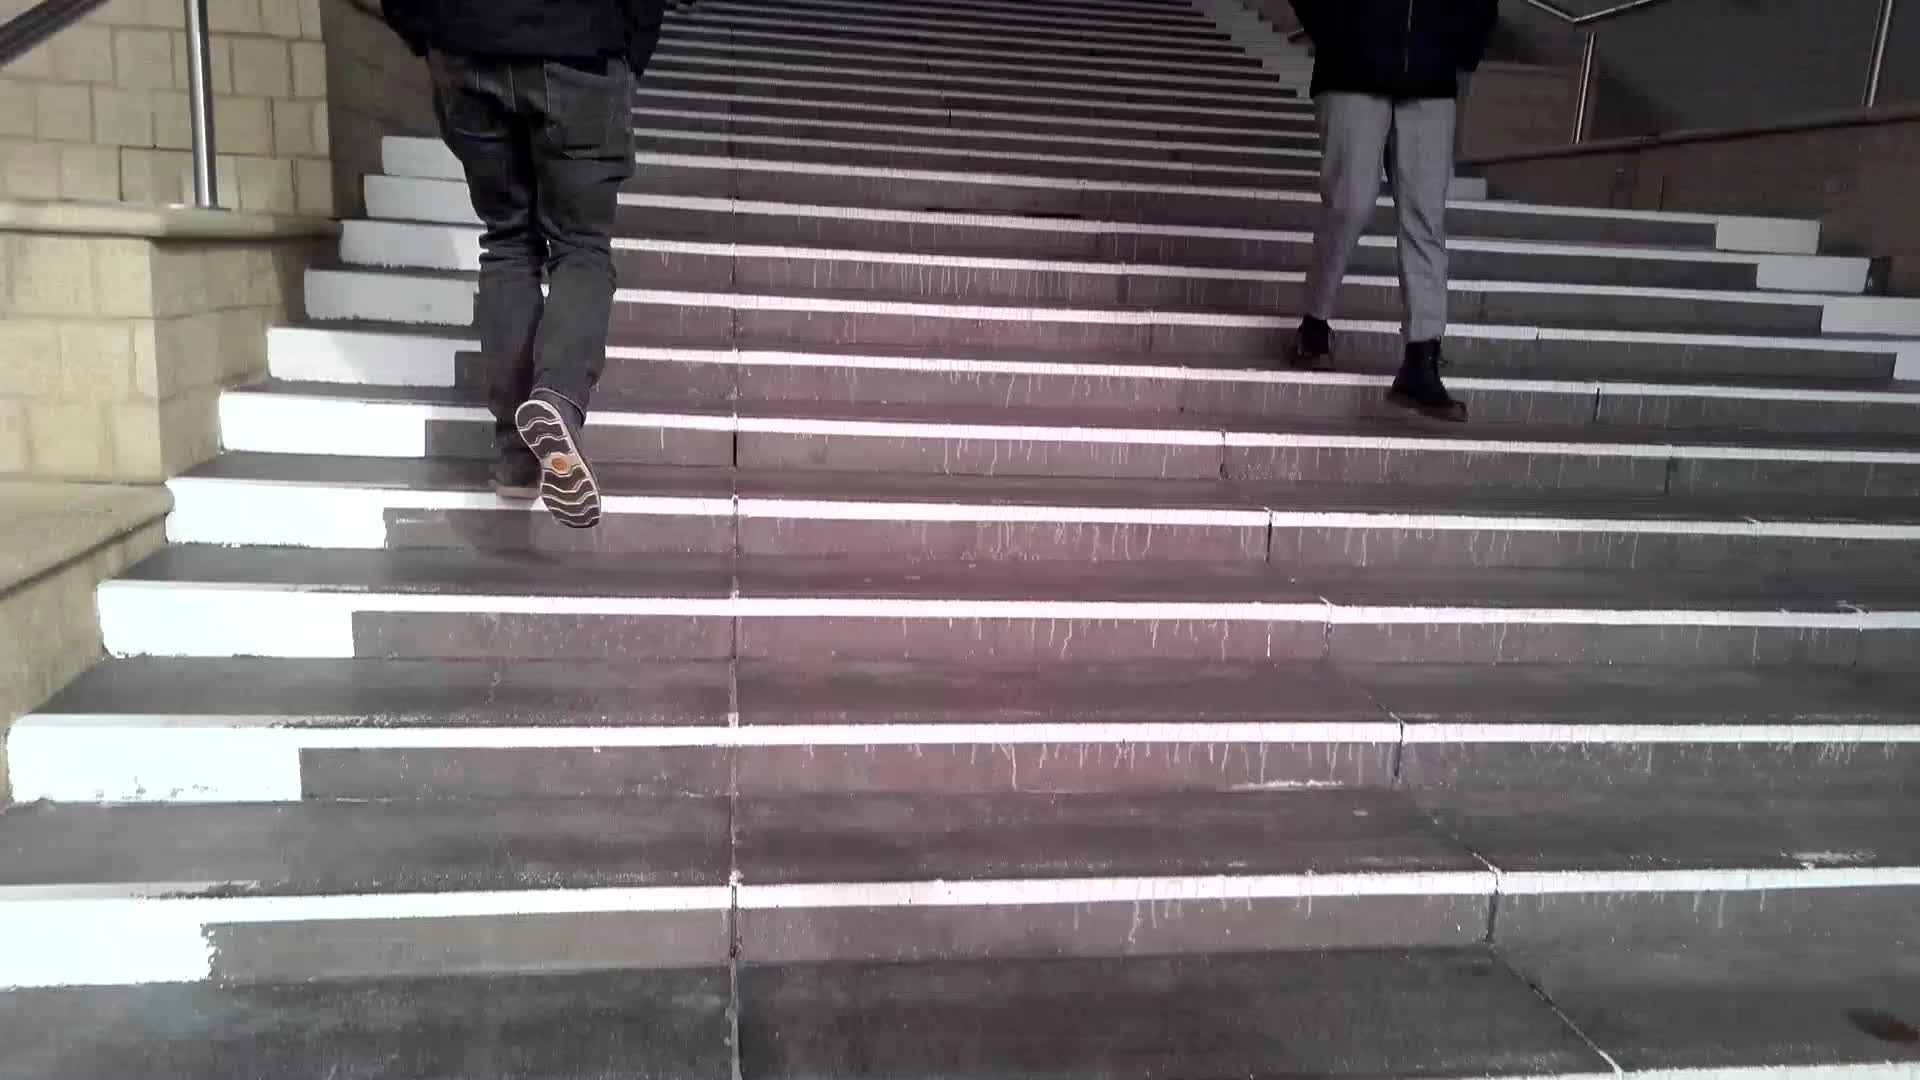Stairs: (293, 105, 1920, 1080)
